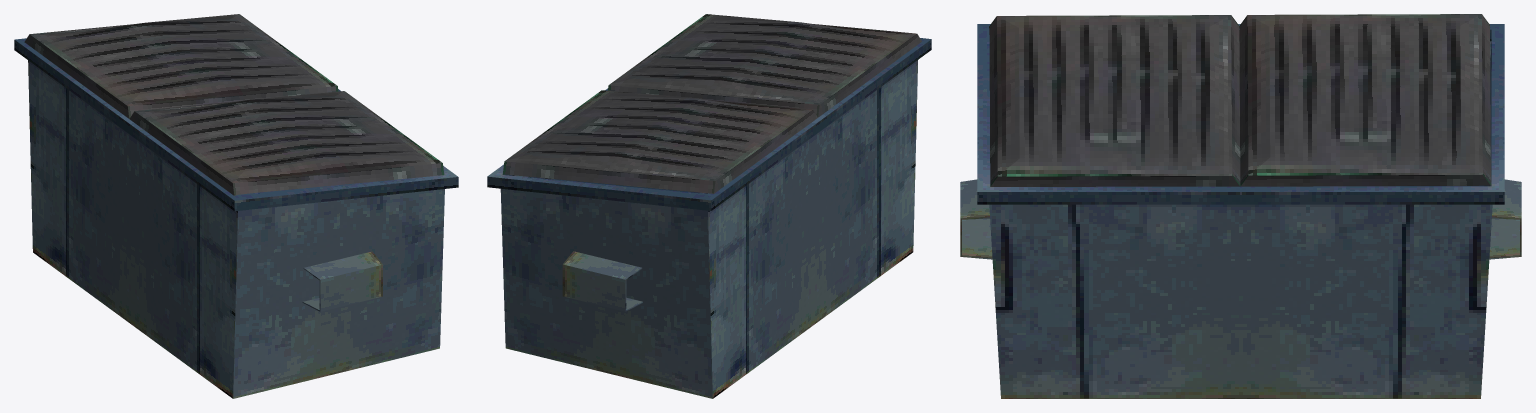
The model's file is dumpster_diagonal_closed_blue.glb.
3 renders of one model, left to right at view 1: azimuth 30°, elevation 25°; view 2: azimuth 150°, elevation 25°; view 3: azimuth 270°, elevation 25°, orthographic. The views are drawn at different scales.
Visible parts, largest first — view 1: dumpster_diagonal_closed_blue; view 2: dumpster_diagonal_closed_blue; view 3: dumpster_diagonal_closed_blue.
Boxes of the visible parts, x1,y1,x2,y2 form: dumpster_diagonal_closed_blue: (14, 14, 458, 398); dumpster_diagonal_closed_blue: (487, 14, 931, 398); dumpster_diagonal_closed_blue: (960, 14, 1521, 398).
Bounding box in the file's own units: 2.03 × 1.89 × 3.67.
1 material, 1 textured.
